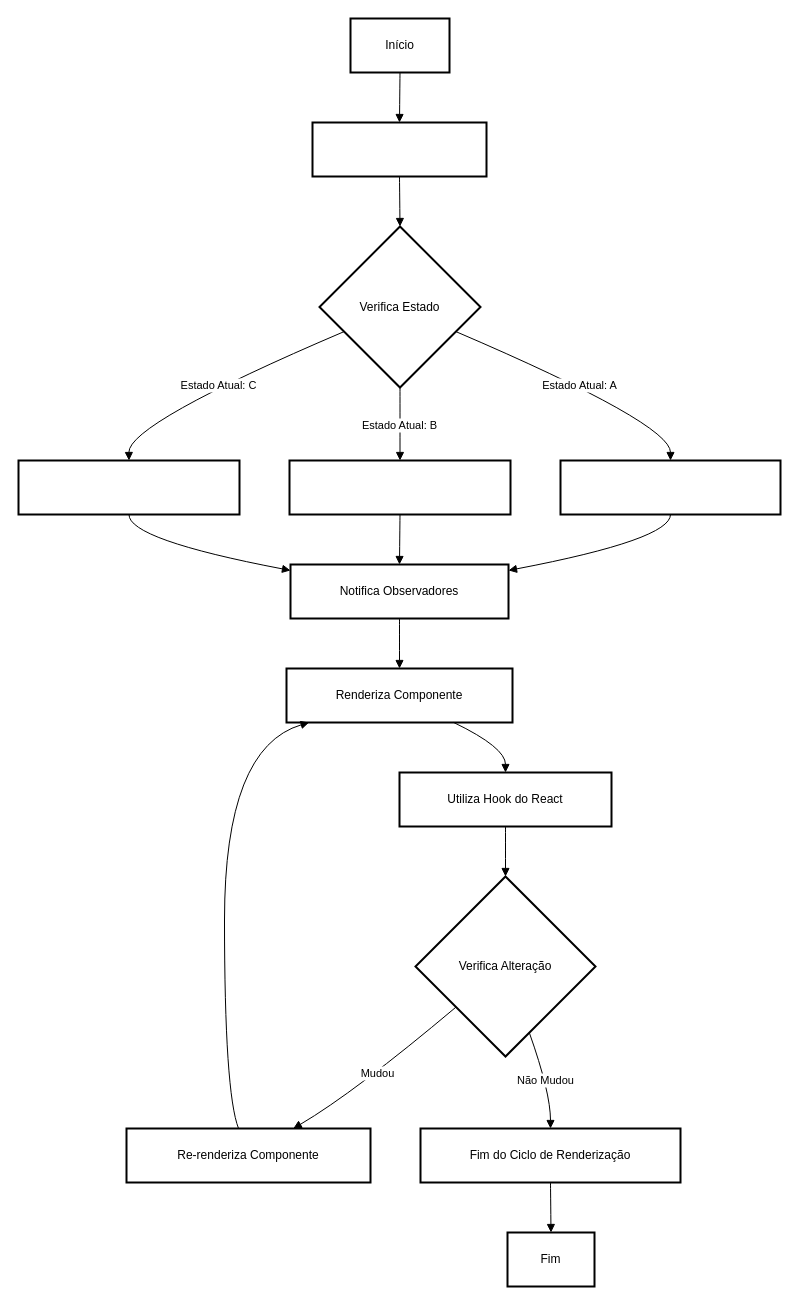
Some shapes in this 798 by 1304 pixel diagram are drawn without their labels. The centre of each missing label's shape, as x and y in pixels:
Atualiza Estado para A: point 128,487
Atualiza Estado para B: point 670,487
Atualiza Estado para C: point 399,487
Classe Principal: point 399,149
